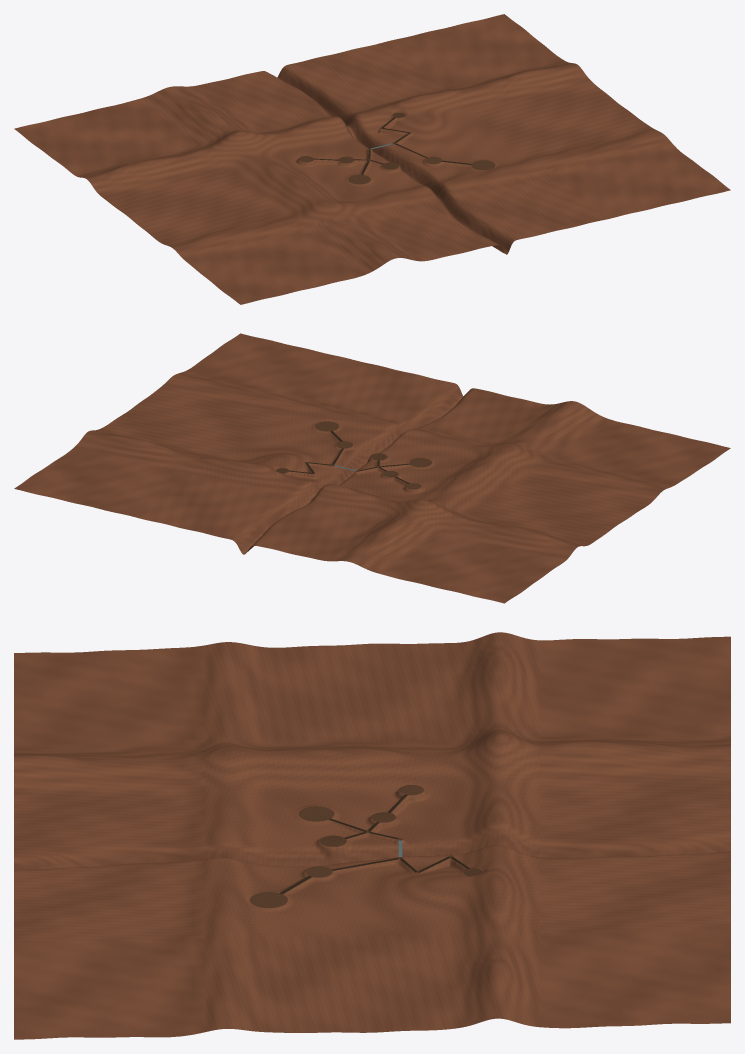
File: terrain-blockout.glb
3 renders of one model, top to bottom at view 1: azimuth 30°, elevation 25°; view 2: azimuth 150°, elevation 25°; view 3: azimuth 270°, elevation 25°, orthographic. The views are drawn at different scales.
Visible parts, largest first — view 1: MarsBasin; view 2: MarsBasin; view 3: MarsBasin.
Boxes of the visible parts, bbox=[...] form: MarsBasin: bbox=[14, 14, 730, 304]; MarsBasin: bbox=[14, 333, 730, 603]; MarsBasin: bbox=[14, 632, 730, 1039].
Bounding box in the file's own units: 1600 × 116 × 1280.
